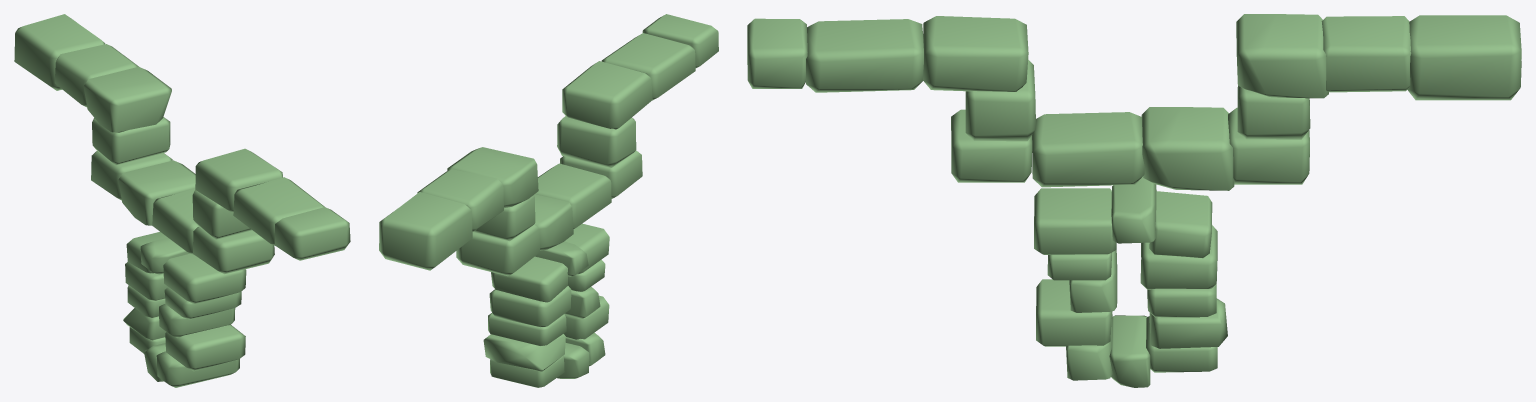
File: Wall_Battlements_02A_Hole_Lod0.fbx
3 renders of one model, left to right at view 1: azimuth 30°, elevation 25°; view 2: azimuth 150°, elevation 25°; view 3: azimuth 270°, elevation 25°, orthographic. The views are drawn at different scales.
Parts seen in each view (by area): view 1: Wall_Battlements_02A_Hole_Lod0; view 2: Wall_Battlements_02A_Hole_Lod0; view 3: Wall_Battlements_02A_Hole_Lod0.
Part boxes in pixels (x1,y1,x2,y2): Wall_Battlements_02A_Hole_Lod0: (14, 14, 350, 387); Wall_Battlements_02A_Hole_Lod0: (379, 14, 718, 387); Wall_Battlements_02A_Hole_Lod0: (747, 14, 1521, 387).
Bounding box in the file's own units: 43.63 × 147 × 304.
